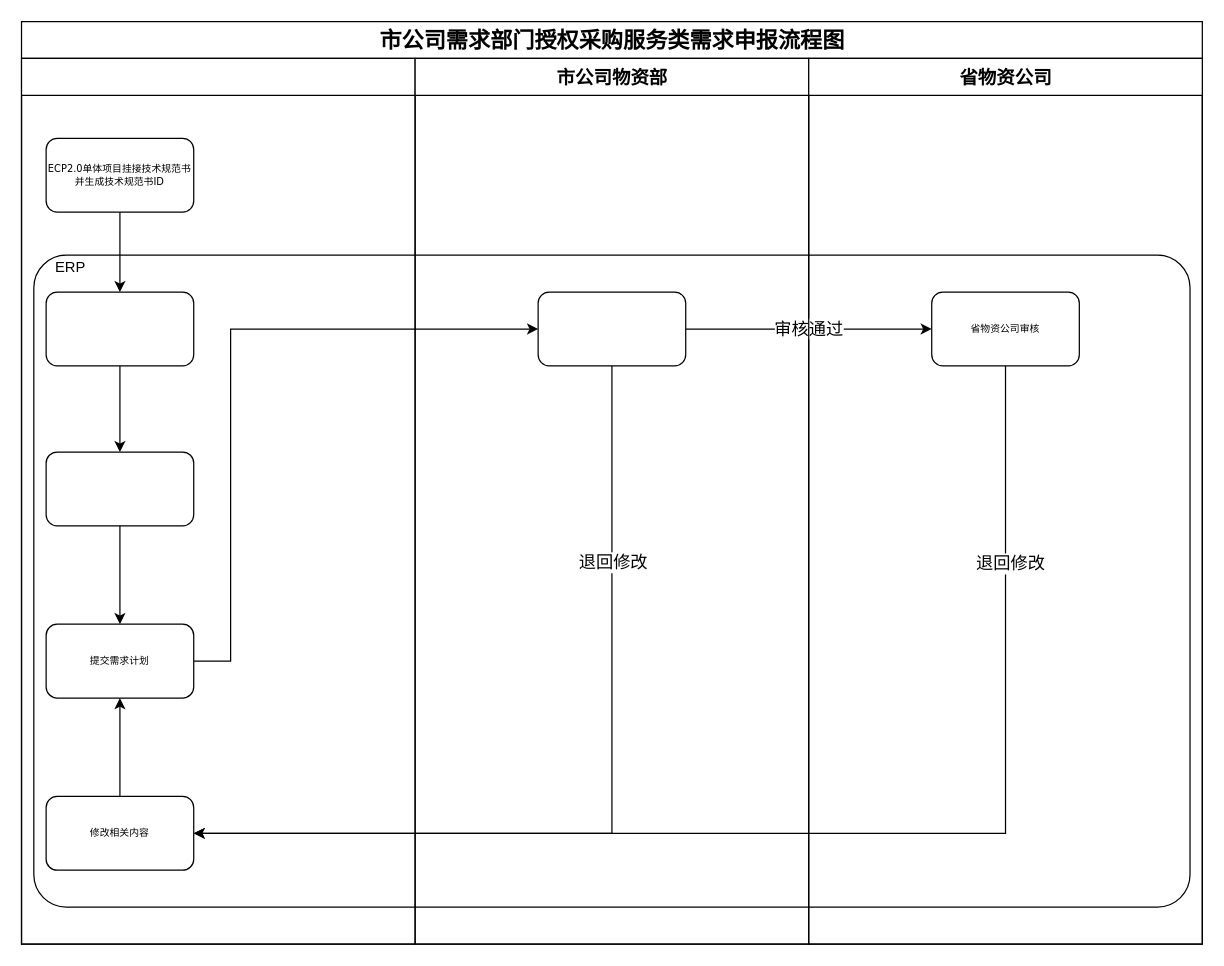
The diagram is 1224 pixels wide and 966 high, and some of its shapes have lost their labels. Here are the shapes that lost their labels. From the top down, the box of each, then its label:
(45, 291, 194, 366): 创建采购申请 并生成采购申请号
(537, 291, 686, 366): 市公司物资部审核
(45, 451, 194, 526): 维护技术规范书ID
(20, 57, 415, 944): 市公司需求部门
